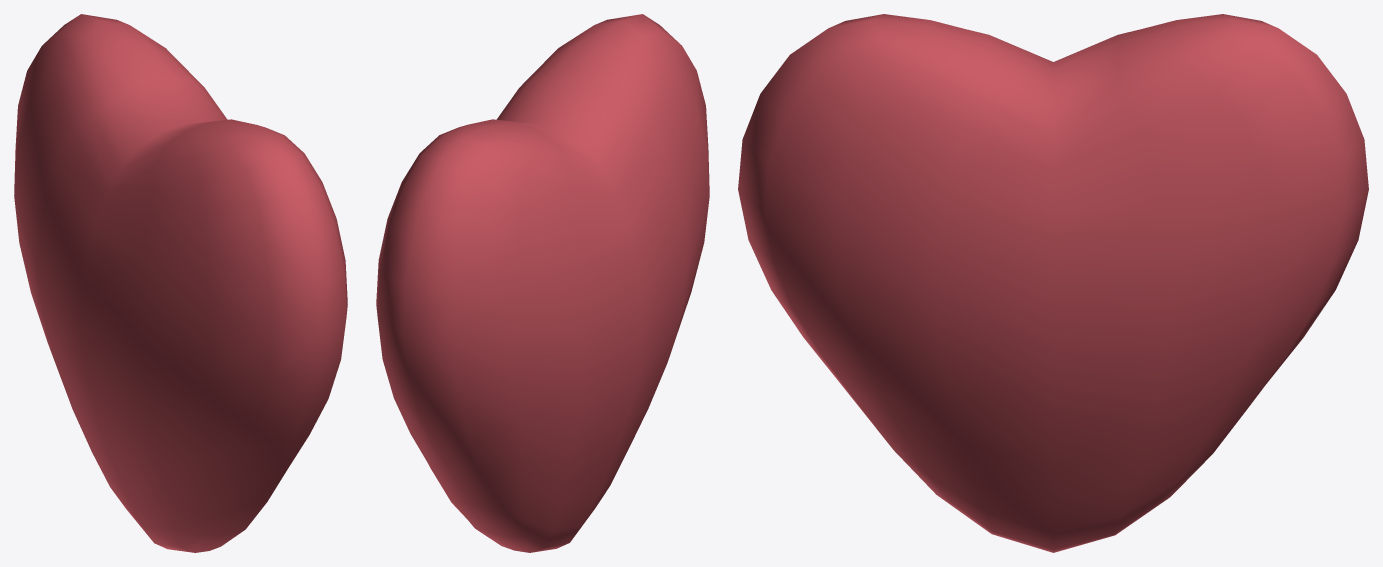
File: Heart.fbx
3 renders of one model, left to right at view 1: azimuth 30°, elevation 25°; view 2: azimuth 150°, elevation 25°; view 3: azimuth 270°, elevation 25°, orthographic. The views are drawn at different scales.
Parts seen in each view (by area): view 1: Heart; view 2: Heart; view 3: Heart.
Boxes of the visible parts, box(x1,y1,x2,y2) form: Heart: box(14, 14, 347, 552); Heart: box(376, 14, 709, 552); Heart: box(738, 14, 1368, 552).
Size of the model in its own units: 1.85 by 4.17 by 4.52.
